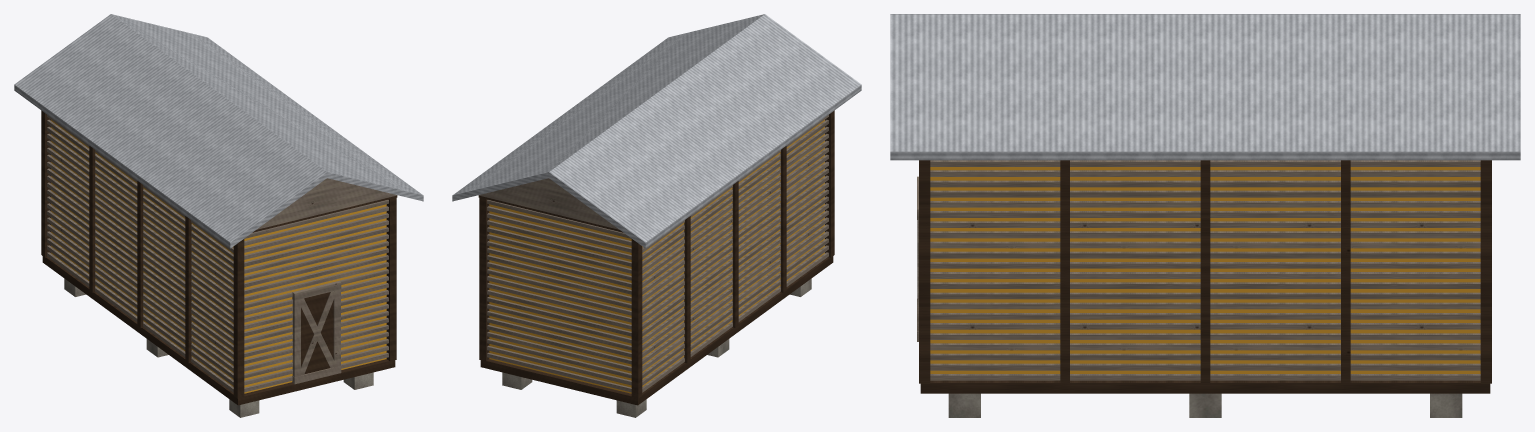
File: corn-crib.glb
3 views of the same model, side by side, from view 1: azimuth 30°, elevation 25°; view 2: azimuth 150°, elevation 25°; view 3: azimuth 270°, elevation 25° (orthographic). The views are drawn at different scales.
Visible parts, largest first — view 1: CornCrib; view 2: CornCrib; view 3: CornCrib.
Part boxes in pixels (x1,y1,x2,y2): CornCrib: (14,14,423,417); CornCrib: (452,14,861,417); CornCrib: (890,14,1520,417).
Bounding box in the file's own units: 4.06 × 4.9 × 7.86.
5 materials, 4 textured.
